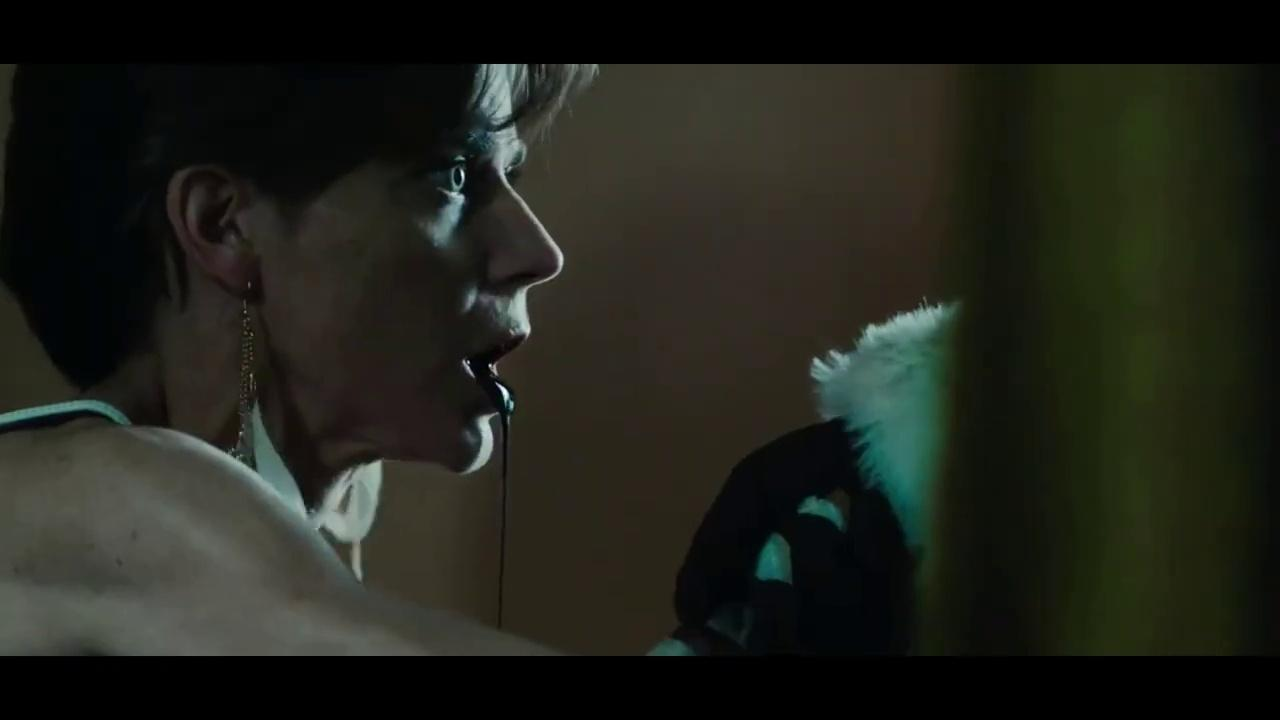Fire: (464, 357, 516, 631)
